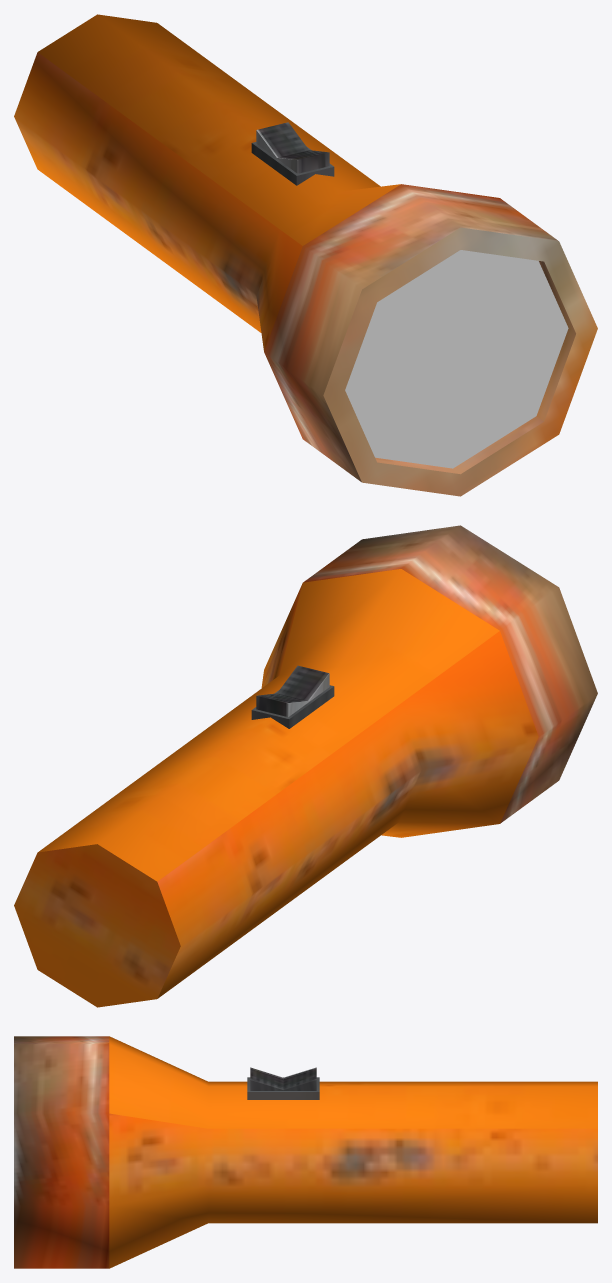
File: SM_FlashLight00.fbx
The picture shows the model from 3 angles, top to bottom: view 1: azimuth 30°, elevation 25°; view 2: azimuth 150°, elevation 25°; view 3: azimuth 270°, elevation 25°; orthographic projection. The views are drawn at different scales.
Visible parts, largest first — view 1: SM_FlashLight00; view 2: SM_FlashLight00; view 3: SM_FlashLight00.
Boxes of the visible parts, x1=… form: SM_FlashLight00: x1=14, y1=14, x2=597, y2=496; SM_FlashLight00: x1=14, y1=525, x2=597, y2=1007; SM_FlashLight00: x1=14, y1=1036, x2=597, y2=1268.
Size of the model in its own units: 11.71 by 10.97 by 26.83.
